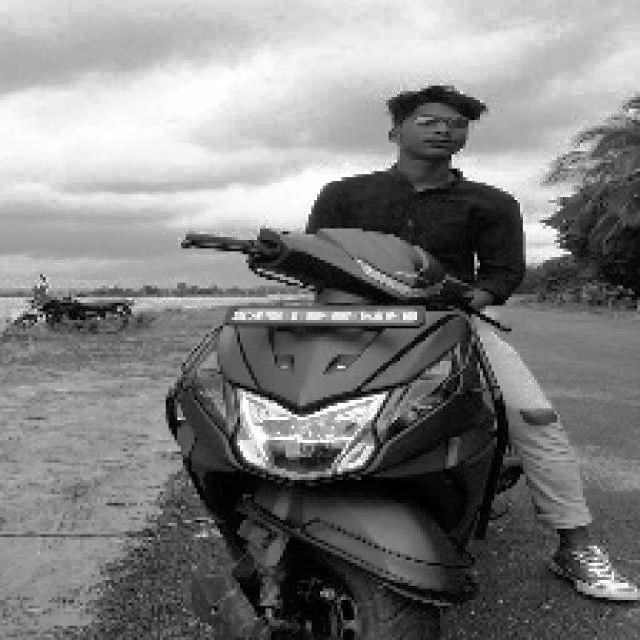Bike: (148, 217, 516, 637)
